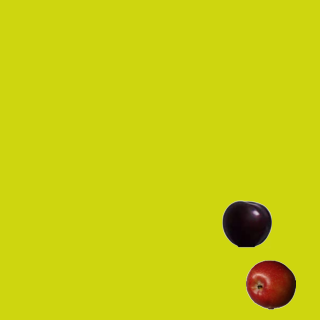Apple Braeburn: (245, 259, 295, 309)
Cherry Wax Black: (221, 198, 271, 248)
